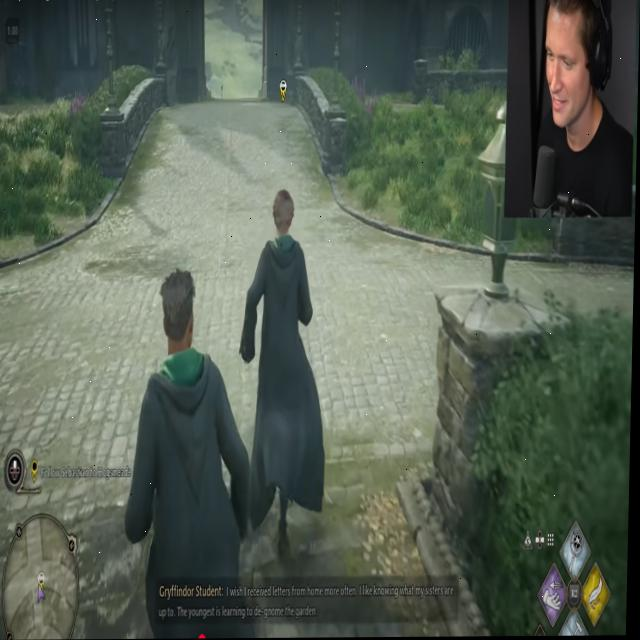compass: (280, 78, 288, 104), (40, 571, 48, 597), (33, 459, 40, 484)
